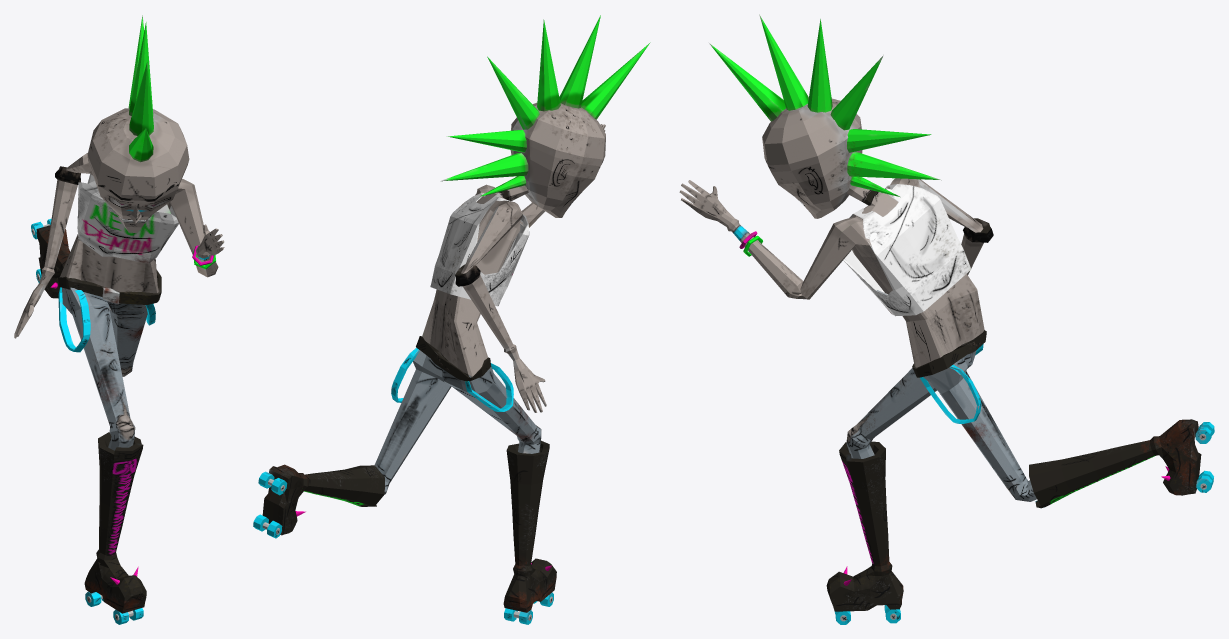
Rendered from punkAnimation_000031.obj.
The picture shows the model from 3 angles, left to right: view 1: azimuth 30°, elevation 25°; view 2: azimuth 150°, elevation 25°; view 3: azimuth 270°, elevation 25°; orthographic projection. The views are drawn at different scales.
Parts seen in each view (by area): view 1: Cube.004_Cube.003; view 2: Cube.004_Cube.003; view 3: Cube.004_Cube.003.
Boxes of the visible parts, box(x1,y1,x2,y2) form: Cube.004_Cube.003: box(14, 15, 224, 624); Cube.004_Cube.003: box(253, 15, 650, 624); Cube.004_Cube.003: box(679, 14, 1214, 624).
Size of the model in its own units: 2.04 by 6.68 by 5.36.
